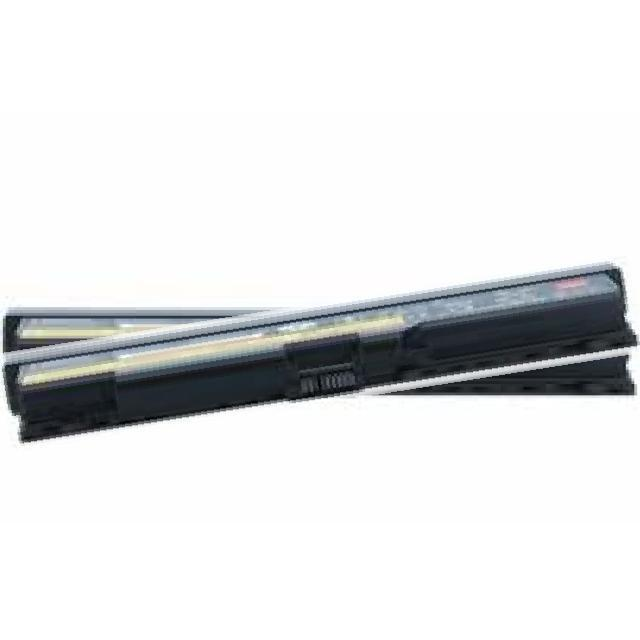Battery: (2, 261, 639, 452), (0, 306, 315, 347)
